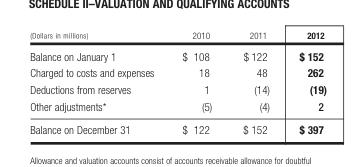table: (29, 29, 326, 135)
table column: (29, 29, 167, 135), (167, 29, 226, 135), (226, 29, 283, 135), (283, 29, 326, 135)
table column header: (29, 29, 326, 44)
table row: (29, 97, 326, 117), (29, 44, 326, 63), (29, 117, 326, 135), (29, 63, 326, 80), (29, 80, 326, 97), (29, 29, 326, 44)
